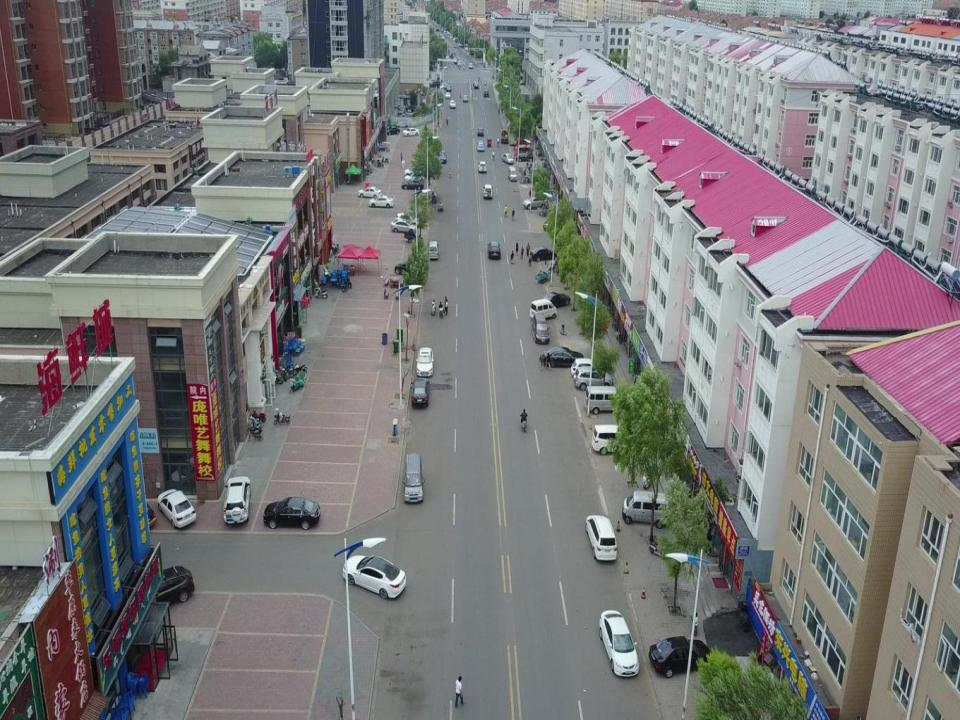car: (598, 609, 640, 677), (342, 554, 406, 598), (648, 635, 711, 678), (138, 565, 194, 609), (262, 496, 320, 530), (156, 487, 197, 529), (118, 490, 156, 534), (222, 474, 252, 526), (572, 365, 614, 392), (543, 345, 584, 368), (571, 357, 602, 381), (410, 376, 430, 408), (542, 290, 571, 310), (416, 348, 434, 378), (395, 262, 422, 280), (529, 246, 558, 262), (390, 219, 418, 234), (522, 195, 548, 211), (368, 195, 394, 208), (394, 212, 422, 224), (402, 166, 425, 180), (356, 186, 382, 198), (403, 170, 425, 184), (486, 240, 501, 260), (401, 178, 424, 191), (515, 151, 535, 162), (402, 126, 420, 137), (500, 152, 515, 164), (384, 125, 400, 136), (437, 148, 447, 164), (477, 160, 488, 173), (430, 79, 442, 89), (476, 140, 485, 152), (476, 127, 485, 137), (448, 99, 457, 108), (483, 88, 490, 98), (462, 94, 469, 103), (444, 91, 451, 100), (445, 84, 452, 91), (468, 62, 474, 69), (473, 83, 479, 89)
truck: (499, 128, 509, 143)
van: (621, 490, 670, 528), (584, 514, 618, 561), (583, 385, 625, 415), (591, 424, 630, 456), (402, 452, 425, 503), (529, 298, 557, 322), (530, 312, 550, 344), (427, 240, 440, 260), (508, 166, 518, 182), (482, 184, 493, 198)
